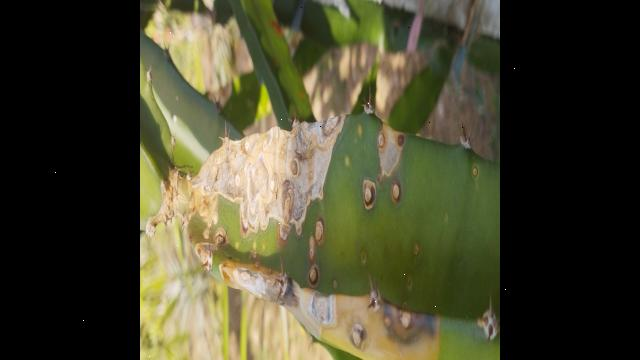stemcanker: (330, 246, 372, 292), (341, 122, 366, 175), (406, 240, 426, 262), (399, 271, 418, 294), (465, 162, 484, 183)
